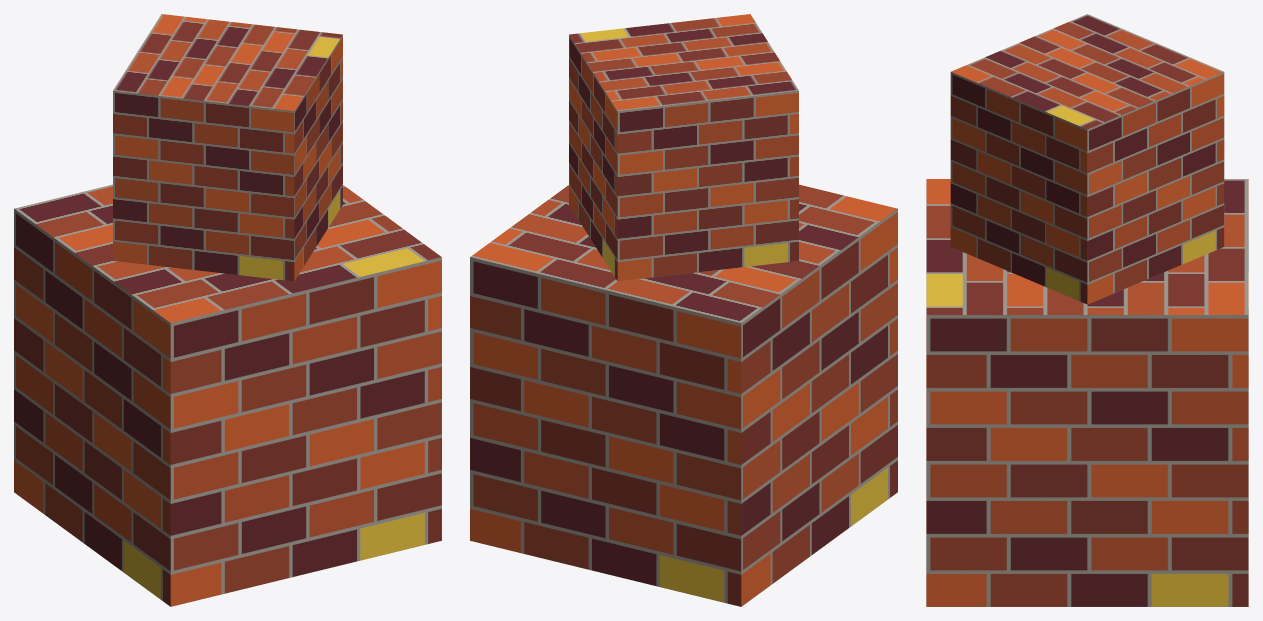
The model's file is crate.glb.
The picture shows the model from 3 angles, left to right: view 1: azimuth 30°, elevation 25°; view 2: azimuth 150°, elevation 25°; view 3: azimuth 270°, elevation 25°; orthographic projection. The views are drawn at different scales.
Visible parts, largest first — view 1: crate, top; view 2: crate, top; view 3: crate, top.
Part boxes in pixels (bbox=[...]): crate: bbox=[14, 184, 441, 606]; top: bbox=[113, 14, 342, 281]; crate: bbox=[470, 184, 897, 606]; top: bbox=[569, 14, 798, 281]; crate: bbox=[926, 179, 1248, 606]; top: bbox=[950, 14, 1224, 304].
Bounding box in the file's own units: 1 × 1.6 × 1.
1 material, 1 textured.
